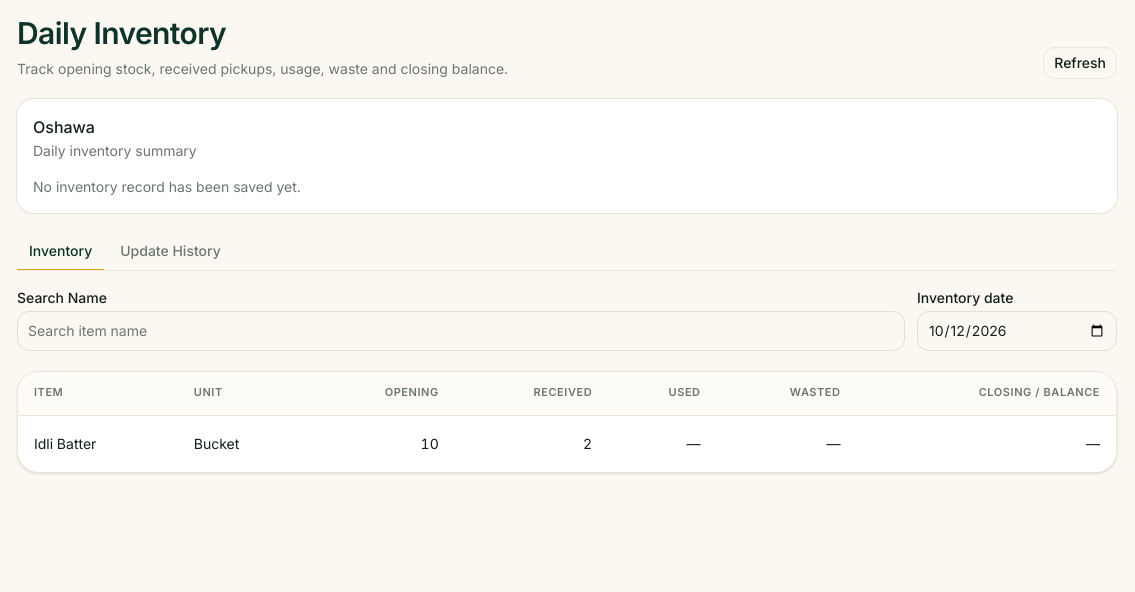
Scenario: history starts with a compact empty date filter independent of the inventory date
Expected: the text "Oshawa" is shown, [33,116,95,136]
Expected: the date field labelled "Inventory date" holds "2026-10-12", [917,310,1117,350]
Click the button "Update History" at (170, 252), box [108,232,233,270]
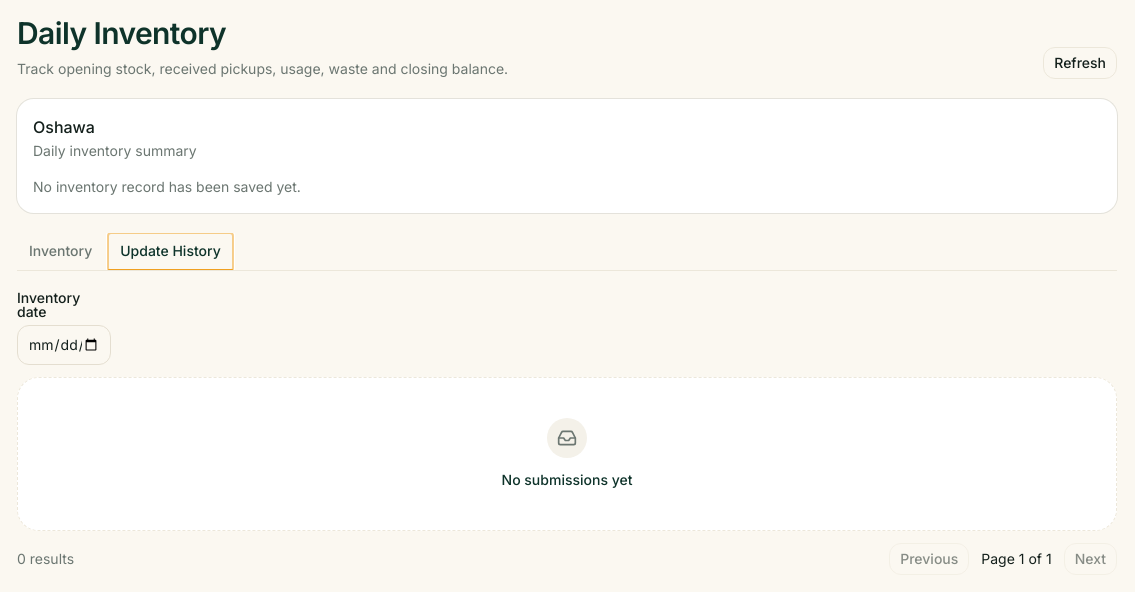
Now the date field labelled "Inventory date" is empty
Type "2026-10-10" into the date field labelled "Inventory date" at (64, 344), box [17,324,111,364]
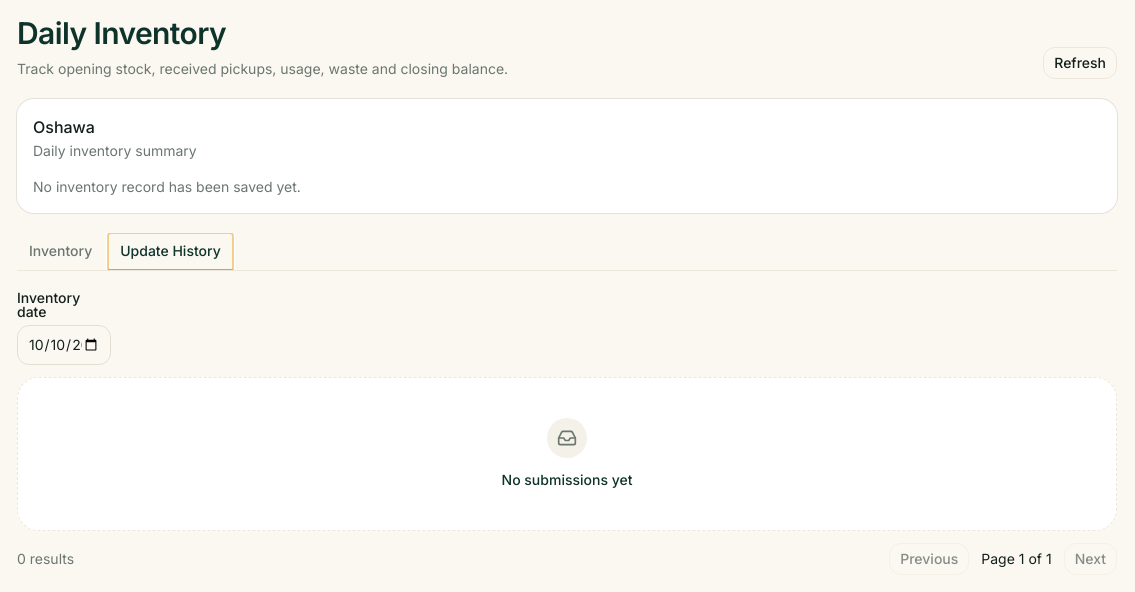
Click the button "Inventory" at (61, 252), box [17,232,104,270]
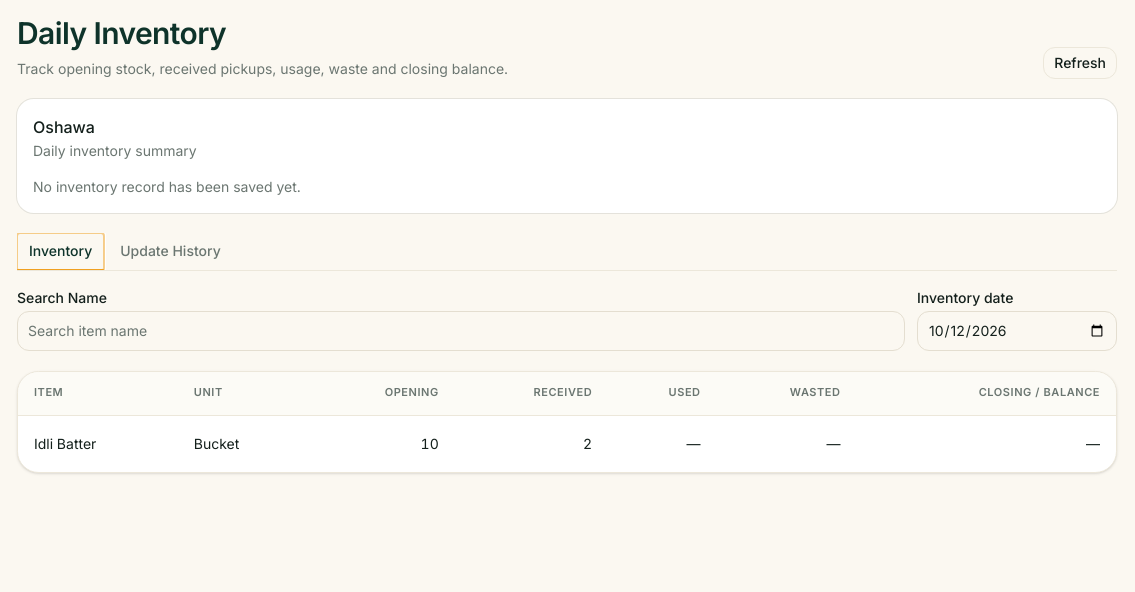
Now the date field labelled "Inventory date" holds "2026-10-12", box [917,310,1117,350]
